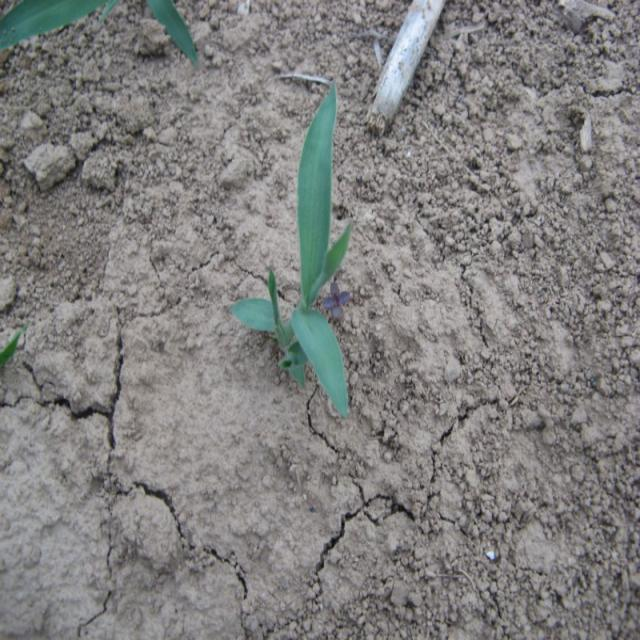bg: (229, 80, 366, 418)
